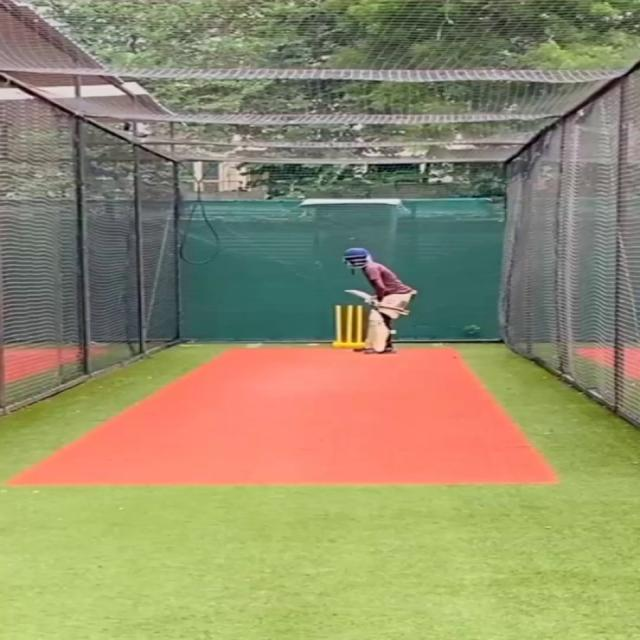stump: (331, 303, 365, 349)
